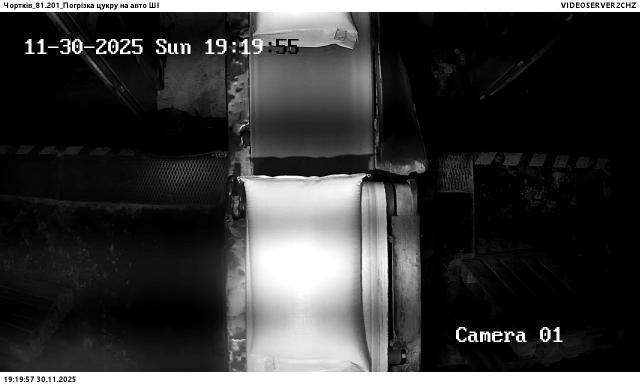bag: (239, 174, 375, 372), (255, 13, 359, 48)
